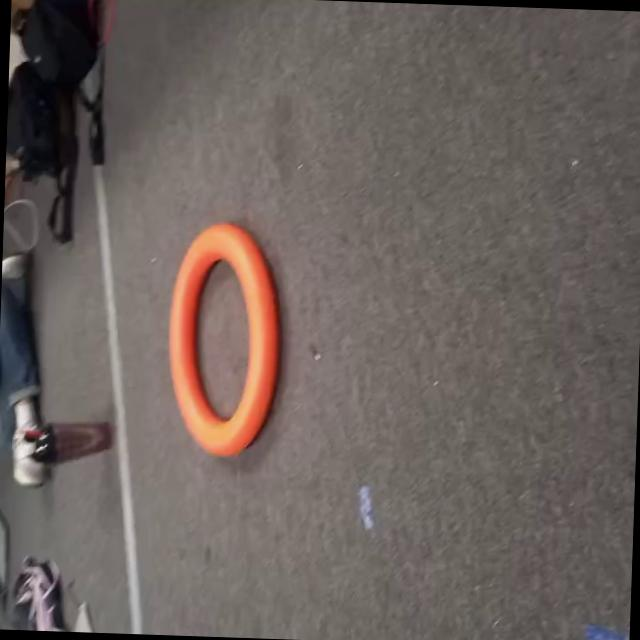note: (154, 214, 289, 461)
